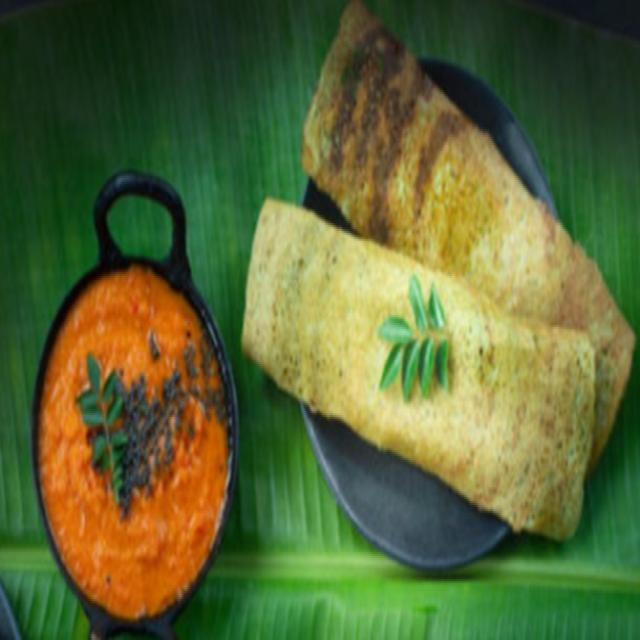DOSA: (302, 0, 633, 468), (243, 198, 600, 538)
RED CHUTNEY: (33, 172, 238, 638)
